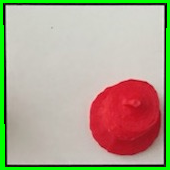Red King: (86, 75, 162, 157)
